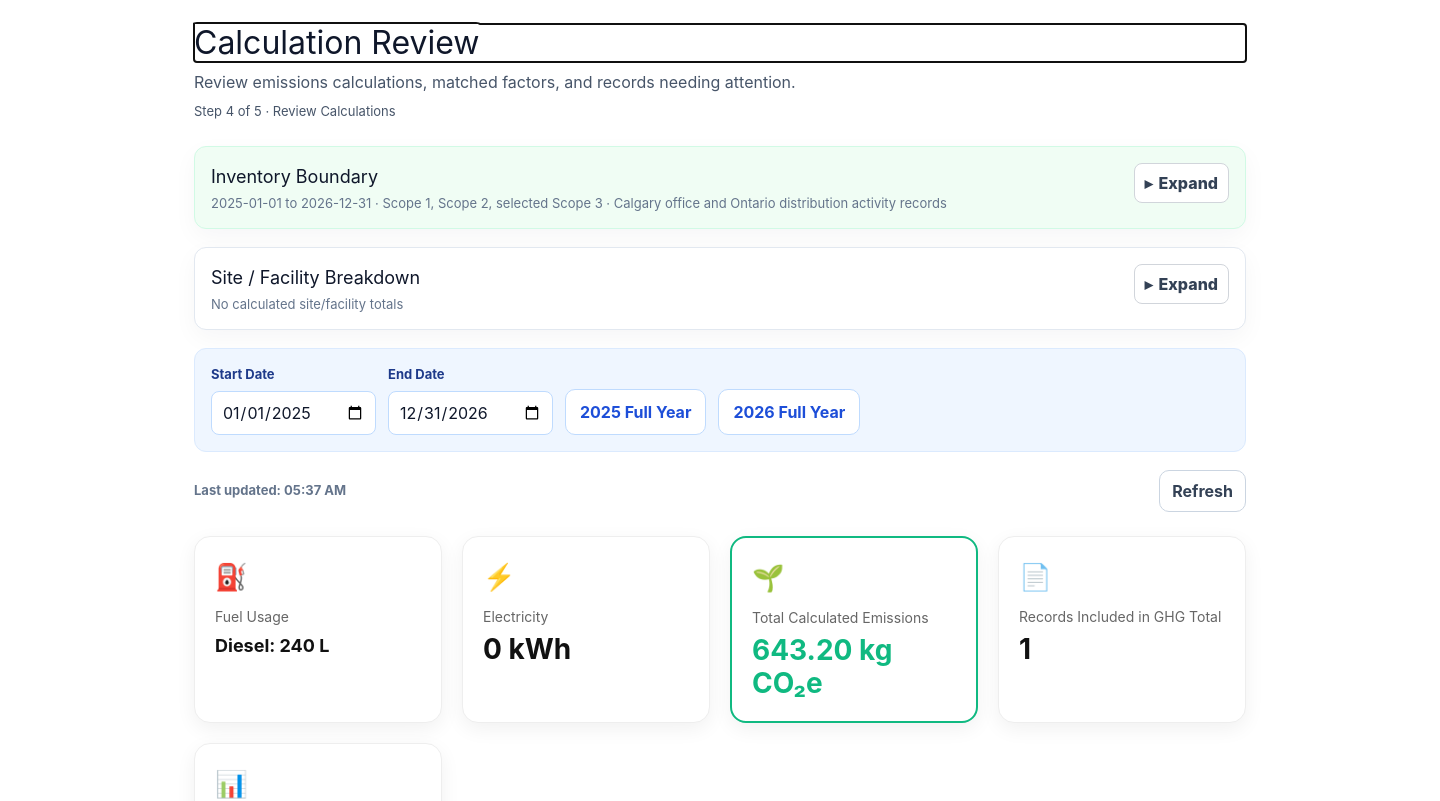
Scenario: MetricsSummaryPage automatic refresh UX › uses saved organization profile values in the Inventory Boundary
Expected: the element "Inventory Boundary" shows "2025-01-01 to 2026-12-31 · Scope 1, Scope 2, selected Scope 3 · Calgary office and Ontario distribution activity records", [211,195,947,211]
Click the button with aria-label "Expand Inventory Boundary".
click(1181, 183)  # box [1134,163,1229,203]
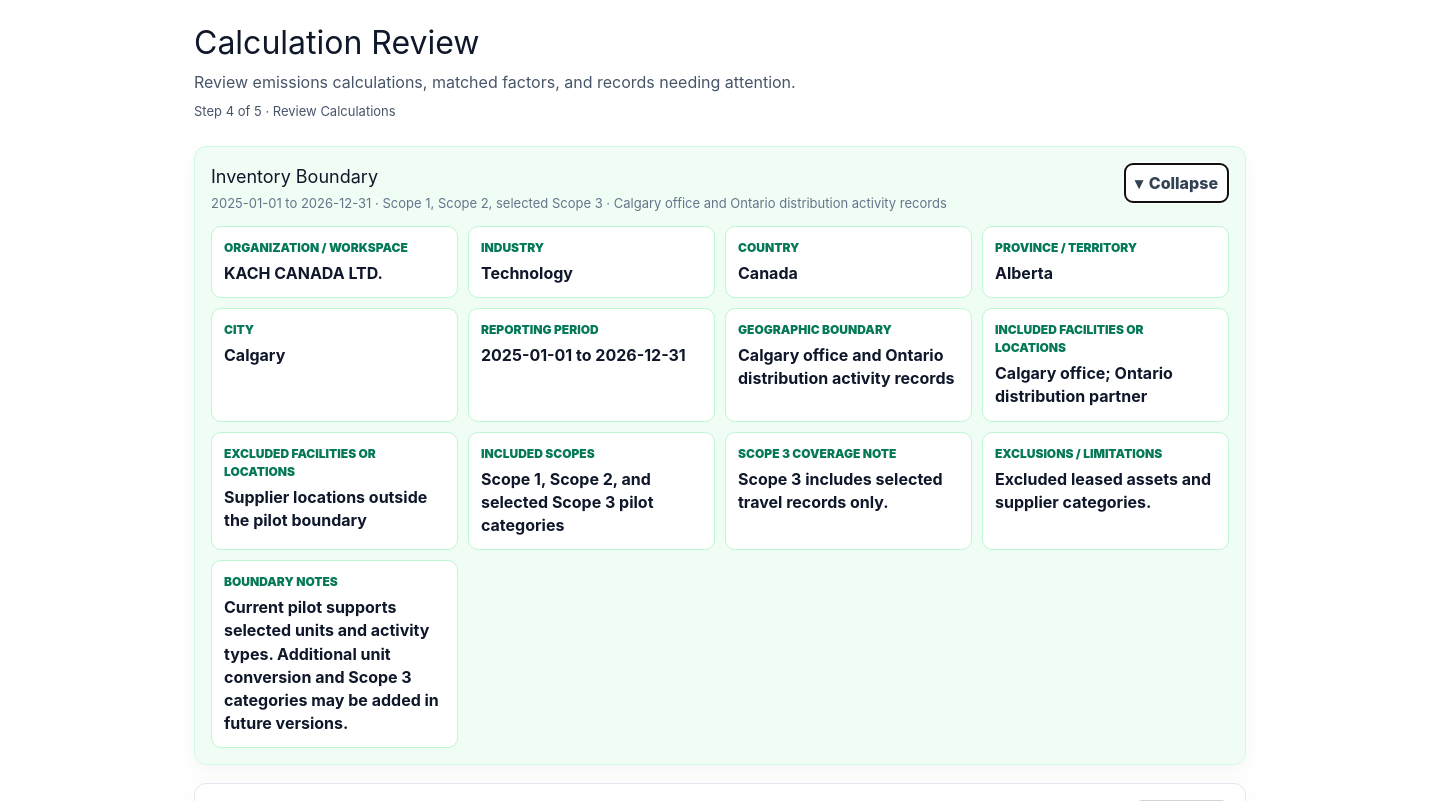
Expected: the text "KACH CANADA LTD." is shown, [224,263,383,283]
Expected: the text "Calgary office and Ontario distribution activity records" is shown, [738,344,959,391]
Expected: the text "Supplier locations outside the pilot boundary" is shown, [224,486,445,532]
